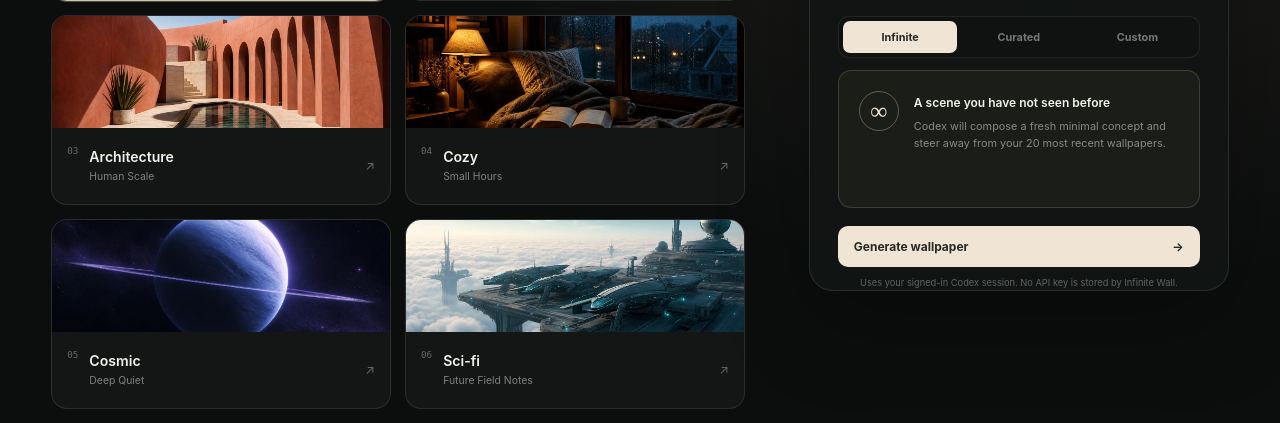
Test: theme selection experience › streams sanitized progress and cancels an active generation
(page scrolled)
What coordinates should you click on to do the following:
click the button "Generate wallpaper →"
I would click on:
 (911, 247)
Its box is 838,226 -> 1200,267.
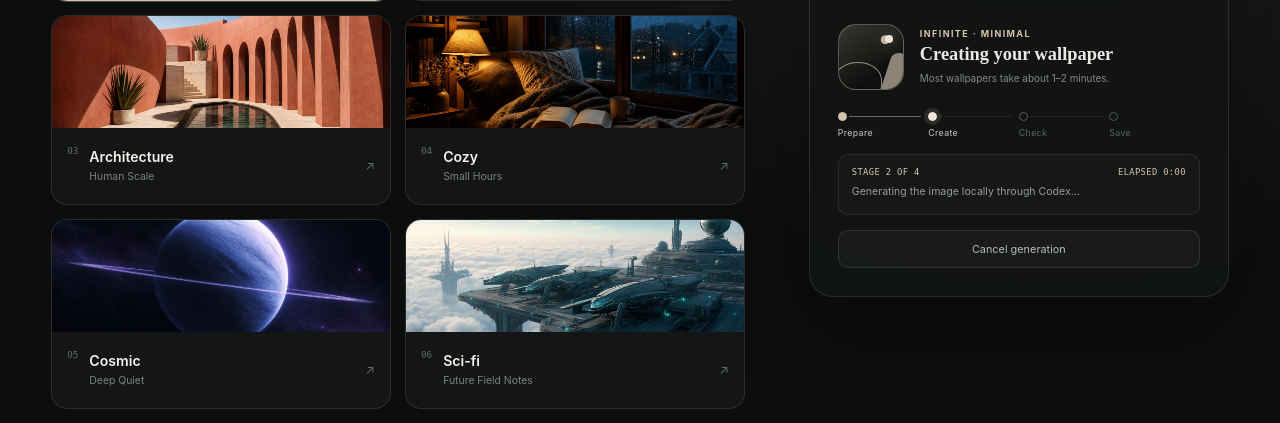
Expected: the heading "Creating your wallpaper" is shown, 920,44 -> 1113,64
Expected: the text "Generating the image locally through Codex…" is shown, 852,185 -> 1080,198
Expected: the text "Stage 2 of 4" is shown, 852,167 -> 920,177
What coordinates should you click on to do the following:
click the button "Cancel generation"
I would click on:
 (1019, 249)
Its box is 838,230 -> 1200,268.
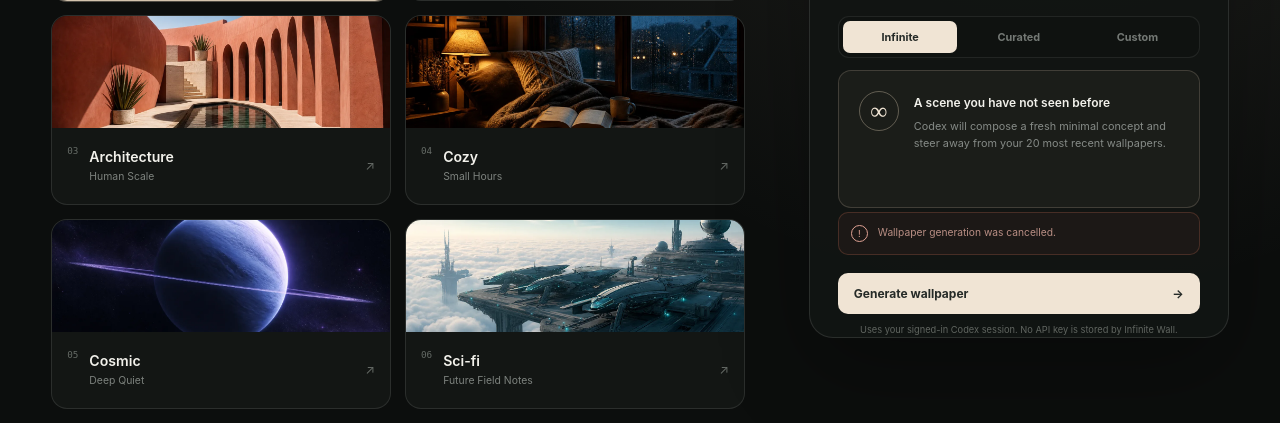
Expected: the text "Wallpaper generation was cancelled." is shown, 878,226 -> 1056,238
